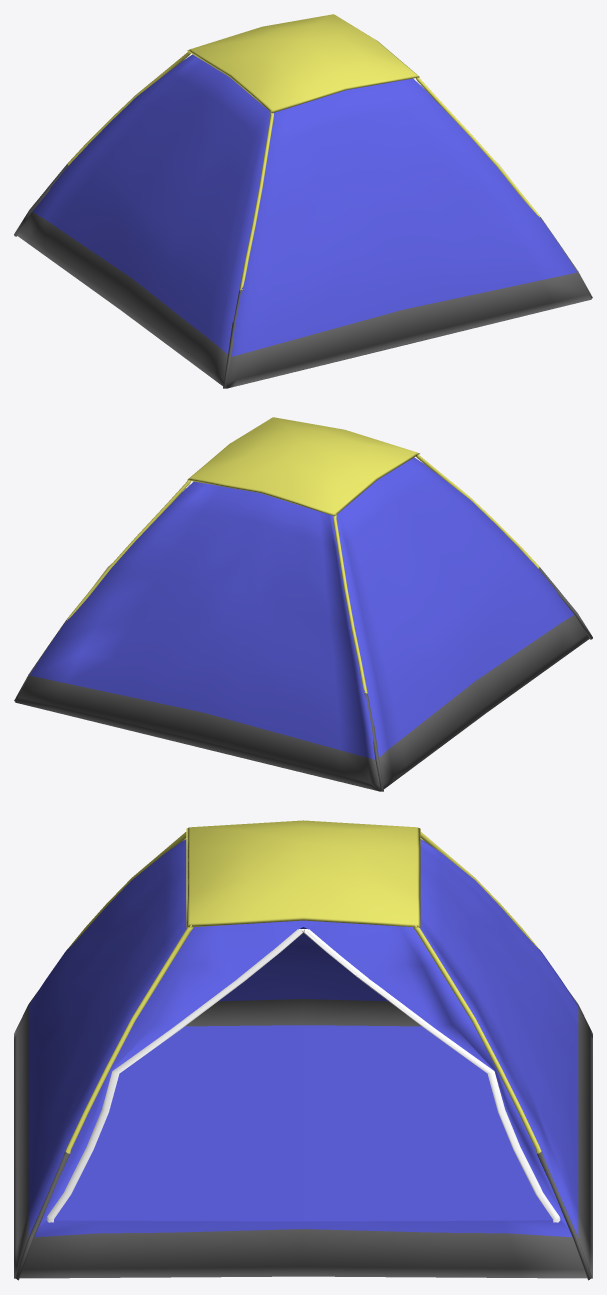
Rendered from Apocalipse Z - CABANA_1.fbx.
3 renders of one model, top to bottom at view 1: azimuth 30°, elevation 25°; view 2: azimuth 150°, elevation 25°; view 3: azimuth 270°, elevation 25°, orthographic. The views are drawn at different scales.
Parts seen in each view (by area): view 1: Plane; view 2: Plane; view 3: Plane.
Part boxes in pixels (bbox=[...]): Plane: bbox=[14, 14, 592, 388]; Plane: bbox=[14, 417, 592, 791]; Plane: bbox=[14, 820, 592, 1280].
Bounding box in the file's own units: 537 × 319 × 532.
